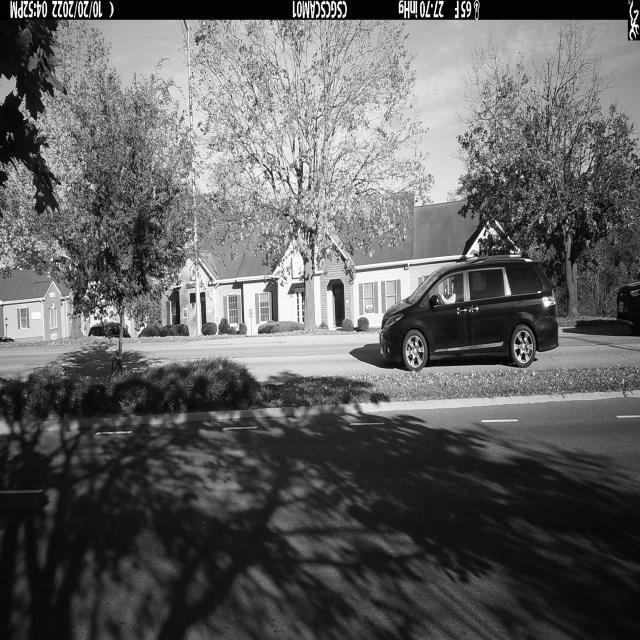Van: (377, 256, 560, 372)
